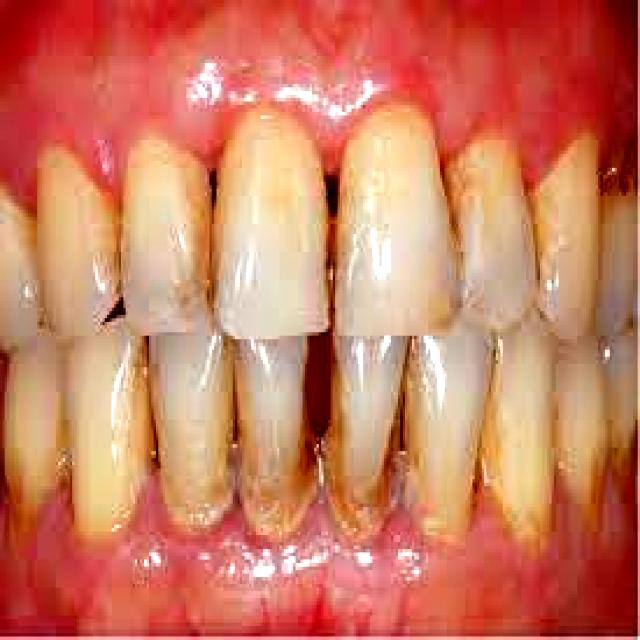tooth-discoloration: (335, 217, 456, 332), (219, 234, 326, 336), (123, 213, 207, 332), (333, 336, 407, 455), (407, 322, 489, 420), (461, 224, 533, 318)
